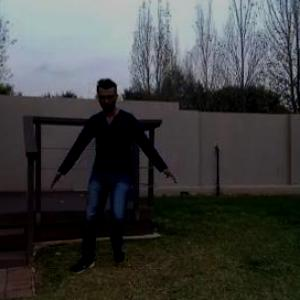land: (56, 78, 172, 278)
